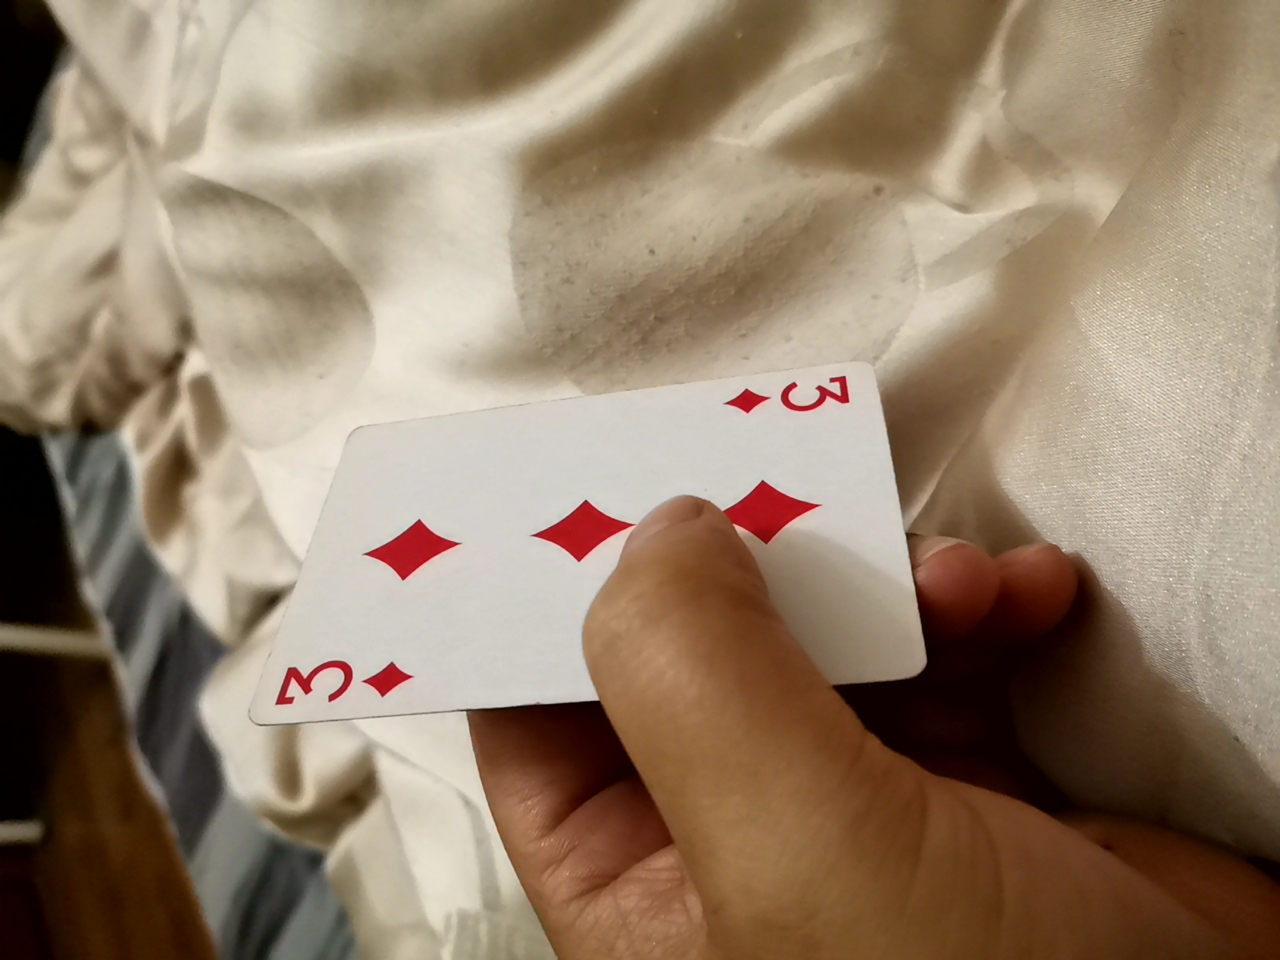fk 3: (231, 329, 940, 738)
